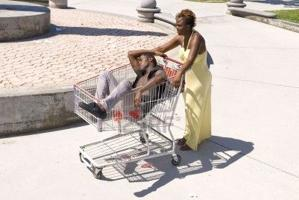person: (148, 9, 216, 151)
